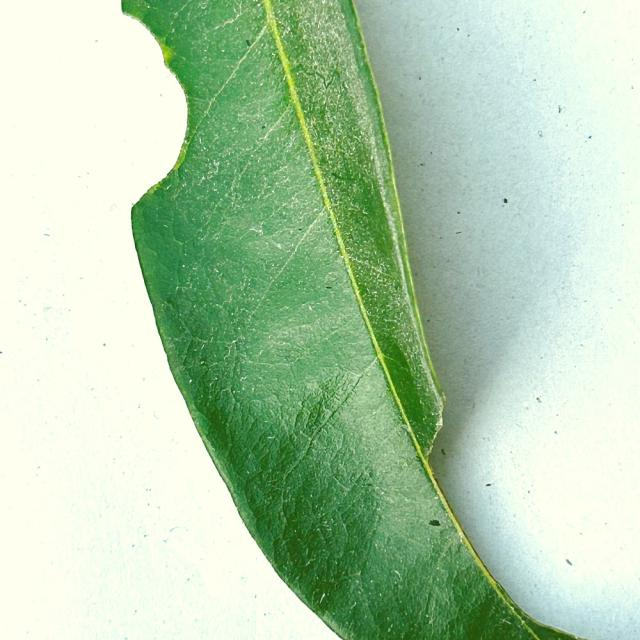Deficiency Leaf: (120, 0, 187, 206)
Lychee: (122, 0, 566, 639)
